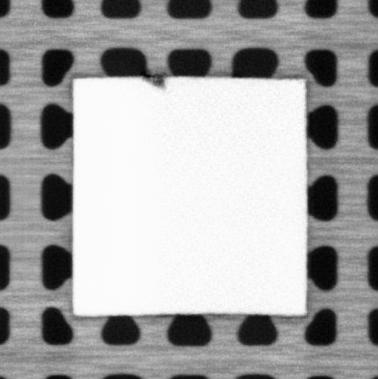DIE_INK: (143, 76, 166, 89)
